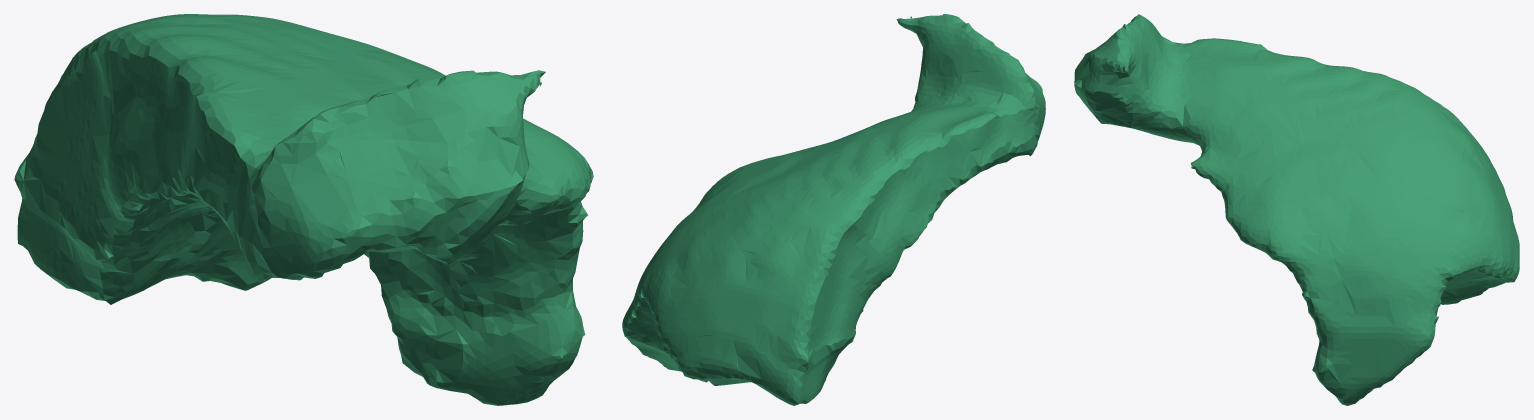
Rendered from Model_10113_LH__Piriform_cortex_(Pir).obj.
The picture shows the model from 3 angles, left to right: view 1: azimuth 30°, elevation 25°; view 2: azimuth 150°, elevation 25°; view 3: azimuth 270°, elevation 25°; orthographic projection. The views are drawn at different scales.
Bounding box in the file's own units: 4.36 × 4.66 × 6.3.
